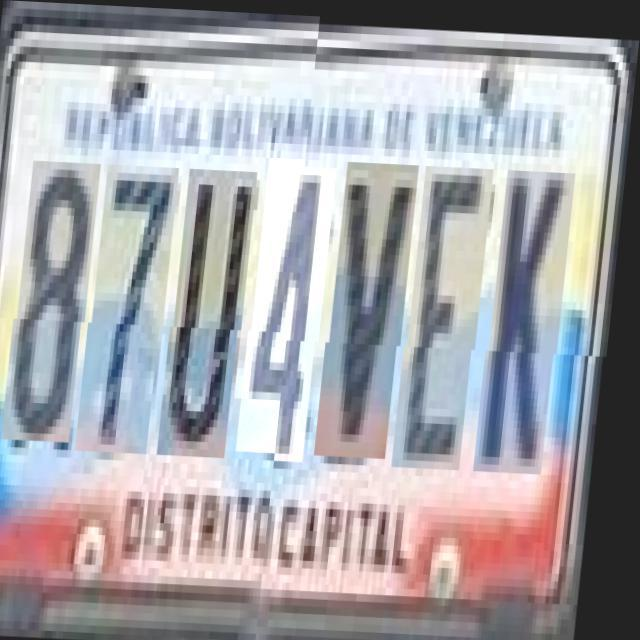4: (248, 162, 339, 458)
7: (88, 170, 182, 460)
8: (13, 168, 104, 449)
E: (404, 161, 496, 465)
K: (486, 164, 578, 468)
U: (170, 174, 260, 463)
V: (327, 158, 422, 454)
